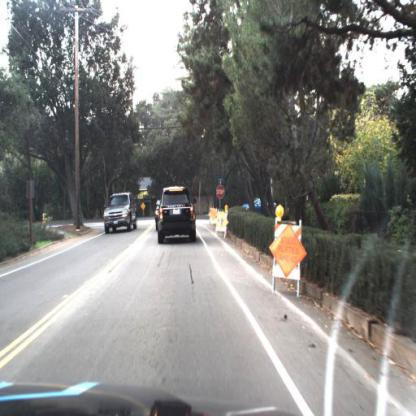car: (156, 183, 197, 246), (100, 188, 140, 236), (234, 194, 275, 215)
